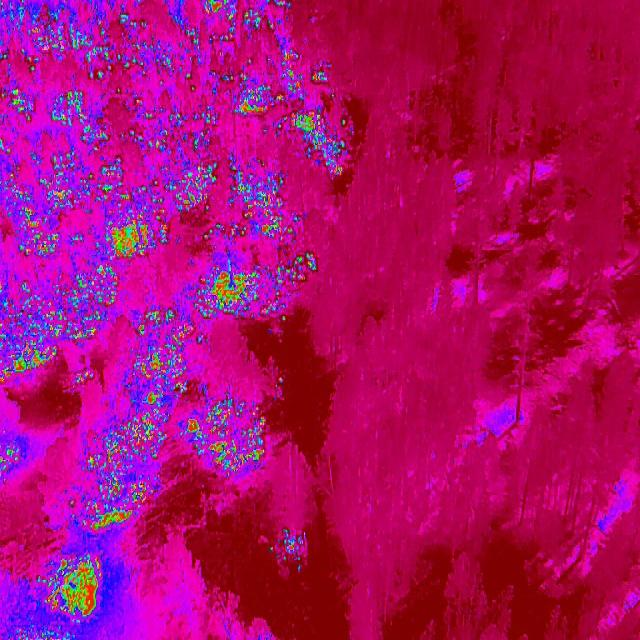fire: (0, 148, 170, 264), (0, 13, 113, 148), (0, 263, 122, 381), (114, 12, 213, 156), (84, 407, 160, 532), (184, 256, 316, 324), (222, 158, 304, 253), (204, 46, 303, 124), (180, 396, 273, 476), (132, 309, 198, 413), (300, 94, 362, 185), (166, 131, 226, 214), (35, 550, 100, 619), (200, 0, 293, 44), (269, 526, 307, 570), (0, 433, 22, 483), (310, 62, 331, 86)
